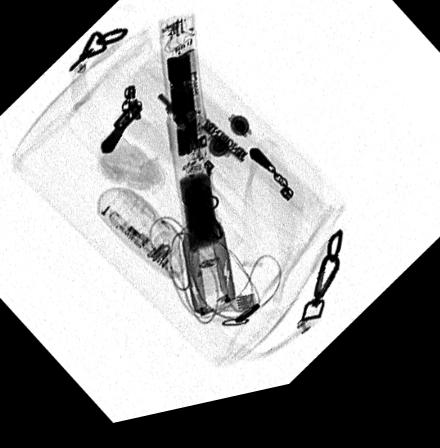Baton: (156, 17, 238, 326)
